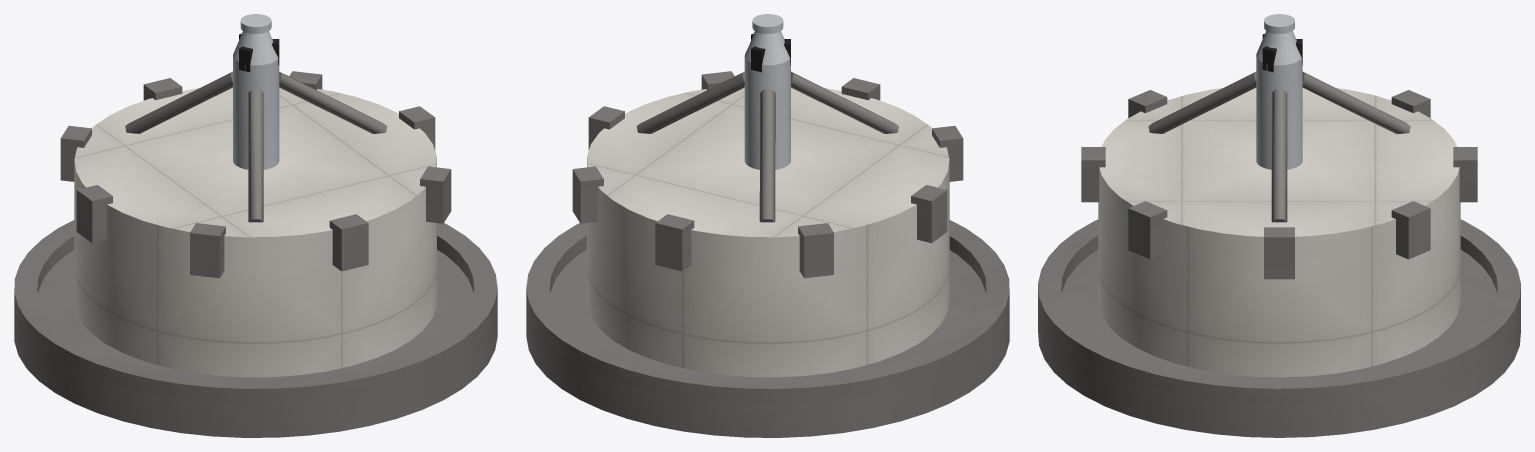
The model's file is station14_probe_drogue_port_active.glb.
3 renders of one model, left to right at view 1: azimuth 30°, elevation 25°; view 2: azimuth 150°, elevation 25°; view 3: azimuth 270°, elevation 25°, orthographic.
Visible parts, largest first — view 1: body, flange, latches, probe_struts, probe; view 2: body, flange, latches, probe_struts, probe; view 3: body, flange, latches, probe_struts, probe.
Boxes of the visible parts, x1=… form: body: x1=74, y1=87, x2=436, y2=377; flange: x1=14, y1=220, x2=497, y2=437; latches: x1=60, y1=71, x2=451, y2=278; probe_struts: x1=125, y1=71, x2=387, y2=222; probe: x1=233, y1=14, x2=279, y2=169; body: x1=587, y1=87, x2=949, y2=377; flange: x1=526, y1=220, x2=1009, y2=437; latches: x1=572, y1=71, x2=963, y2=278; probe_struts: x1=636, y1=71, x2=898, y2=222; probe: x1=744, y1=14, x2=790, y2=169; body: x1=1098, y1=88, x2=1460, y2=377; flange: x1=1038, y1=219, x2=1520, y2=437; latches: x1=1081, y1=90, x2=1477, y2=279; probe_struts: x1=1148, y1=72, x2=1410, y2=222; probe: x1=1256, y1=14, x2=1302, y2=169.
Bounding box in the file's own units: 0.625 × 0.45 × 0.6245.
4 materials, 3 textured.
